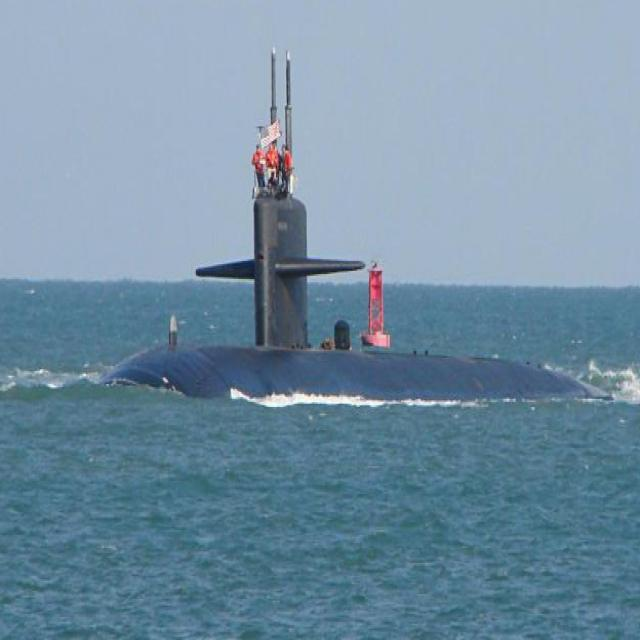submarine: (80, 193, 640, 396)
